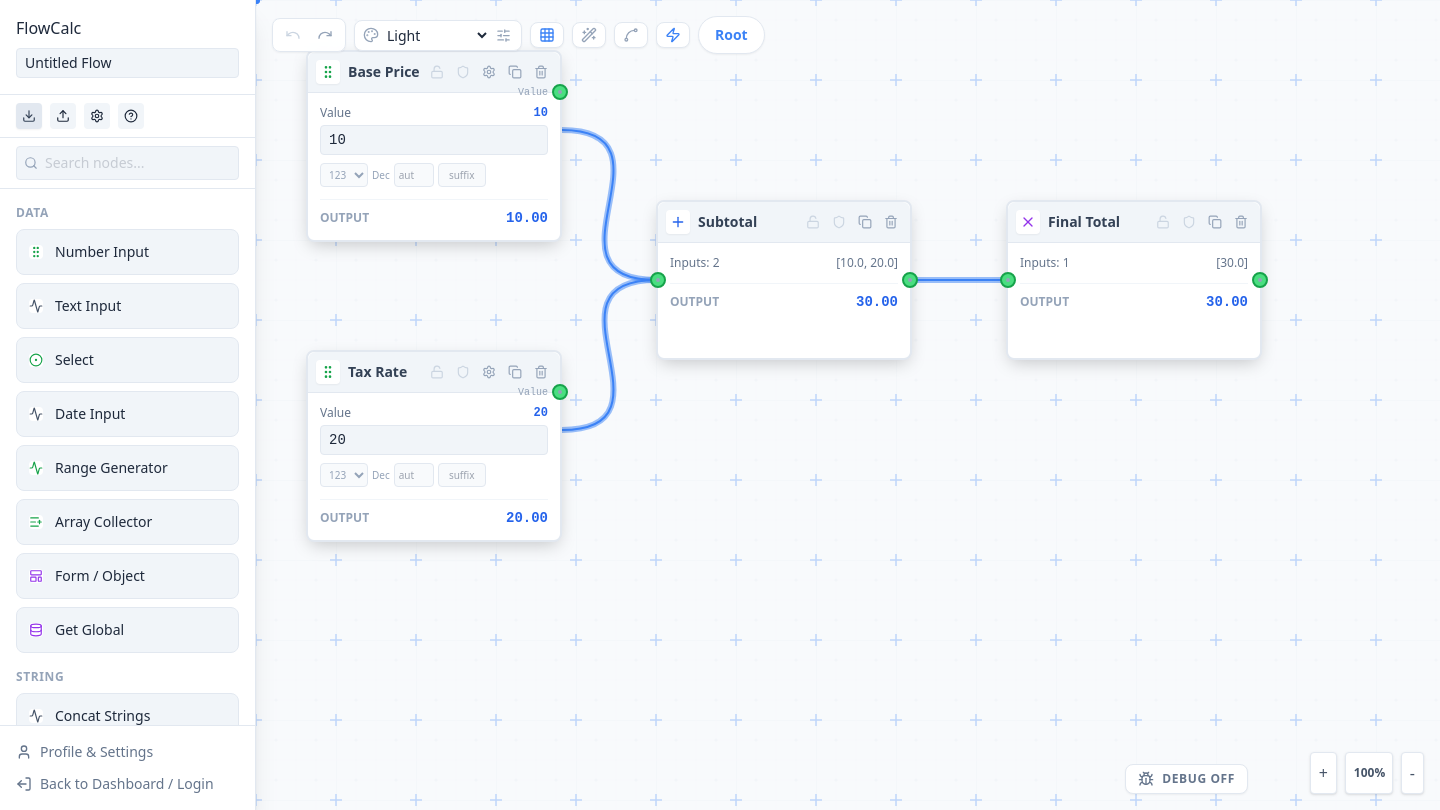
Test: Editor (integration) › the command palette inserts a node at the cursor
Expected: the field with placeholder "Subtract" is not shown
Press k
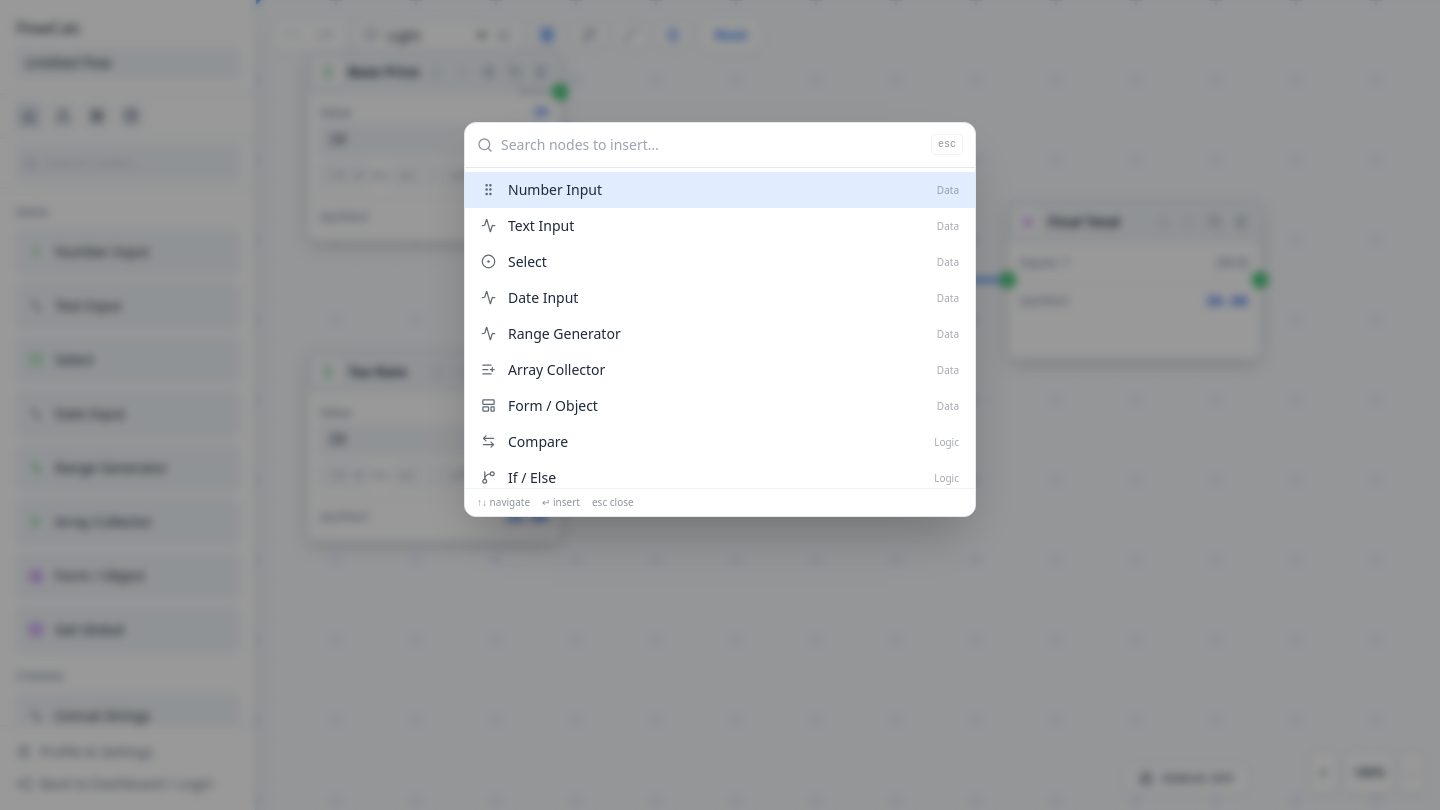
Type "subtract" into the field with placeholder "Search nodes to insert…" at (712, 144), box [501, 122, 923, 166]
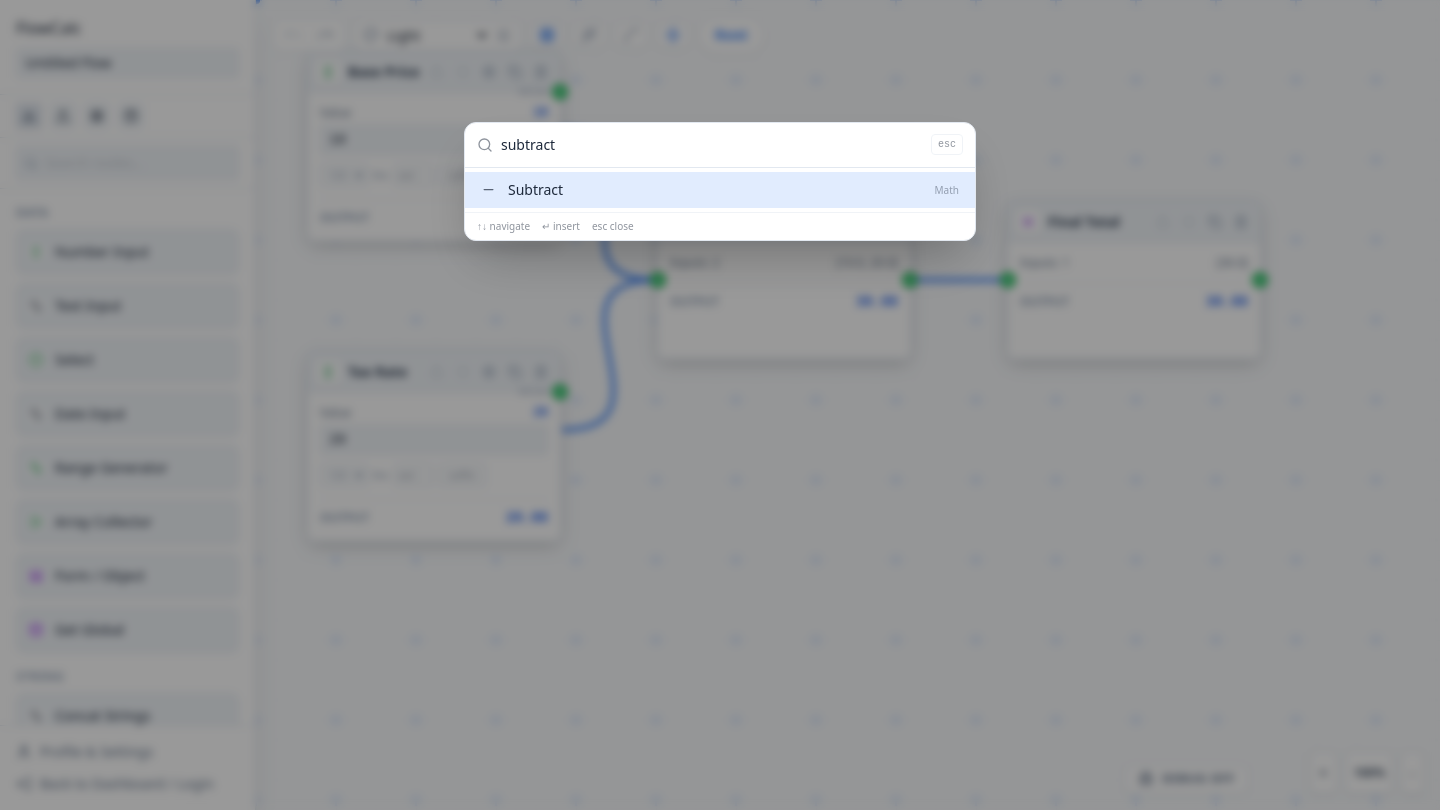
Press Enter in the field with placeholder "Search nodes to insert…", box [501, 122, 923, 166]
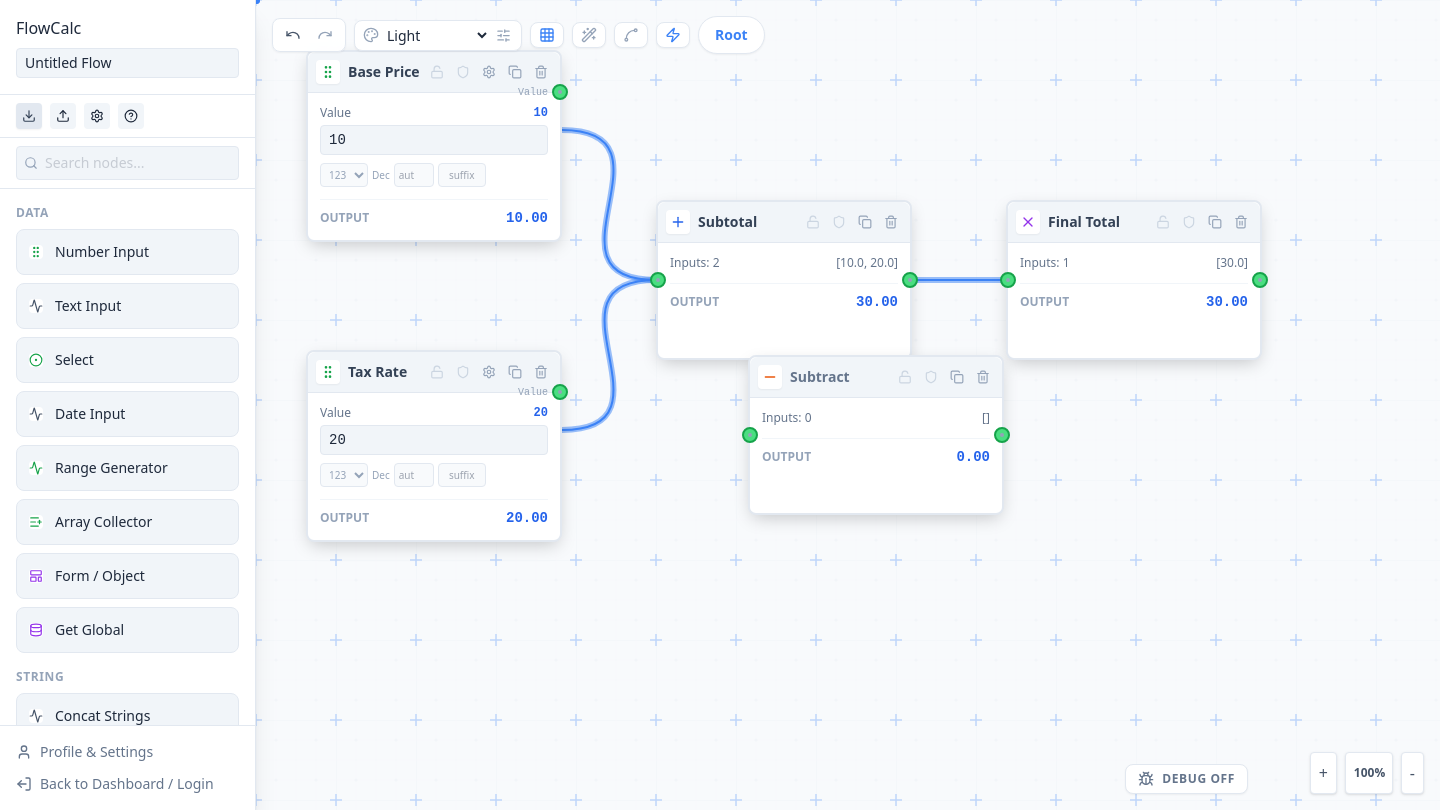
Expected: the field with placeholder "search nodes to insert" is not shown
Expected: the field with placeholder "Subtract" is shown, [790, 367, 894, 387]
